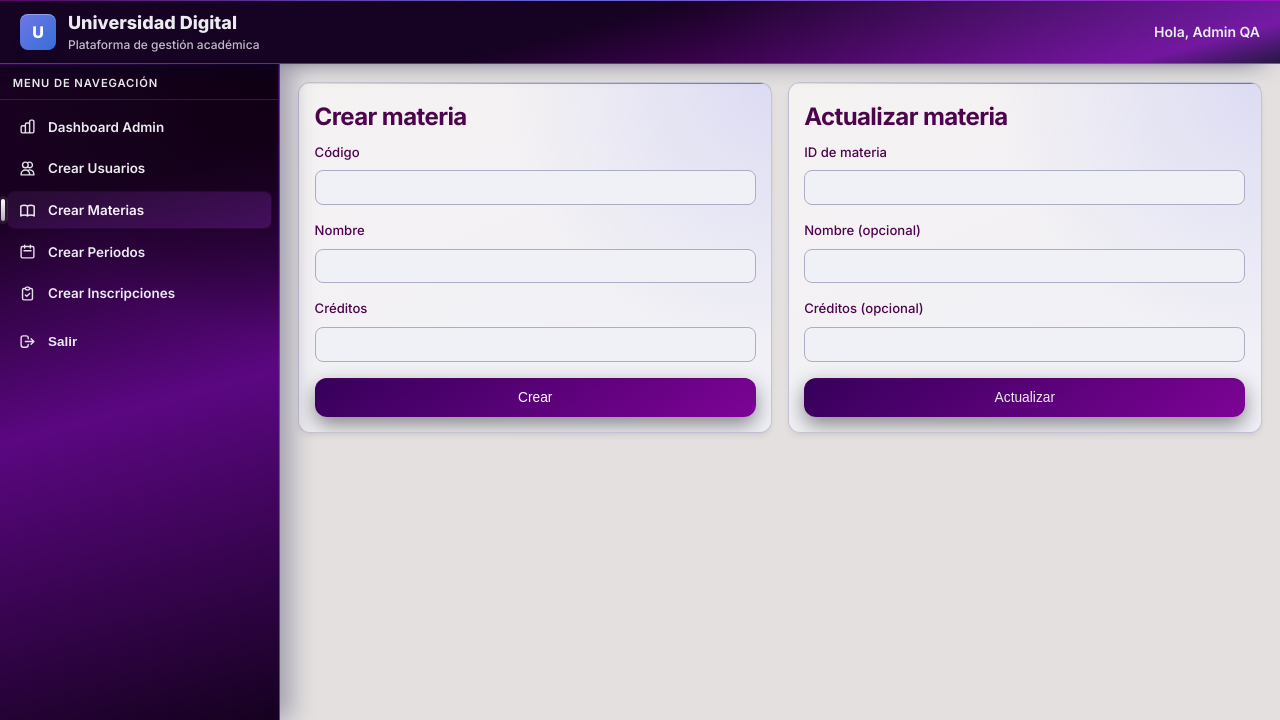
Test: Materias — Gestión básica › actualiza materia existente
In the field named "id": (1025, 188) [804, 170, 1245, 205], type "55"
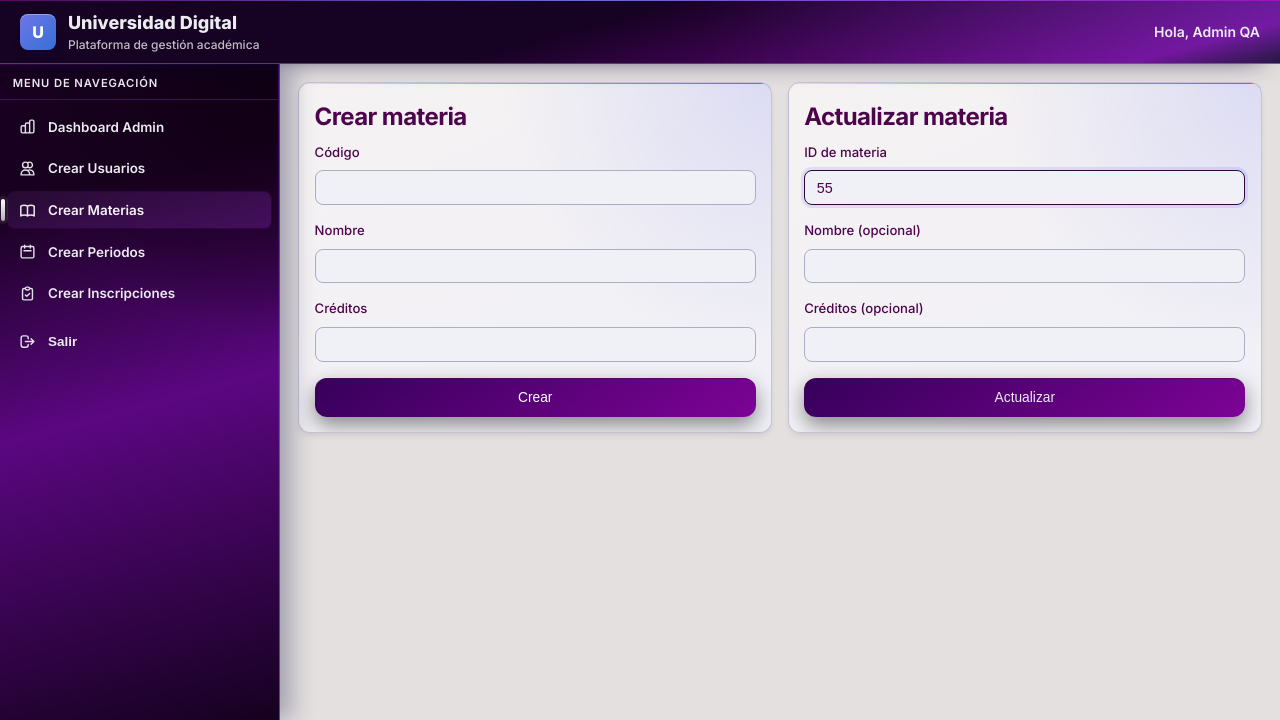
In the field named "name": (1025, 267) [804, 249, 1245, 284], type "Álgebra Avanzada"
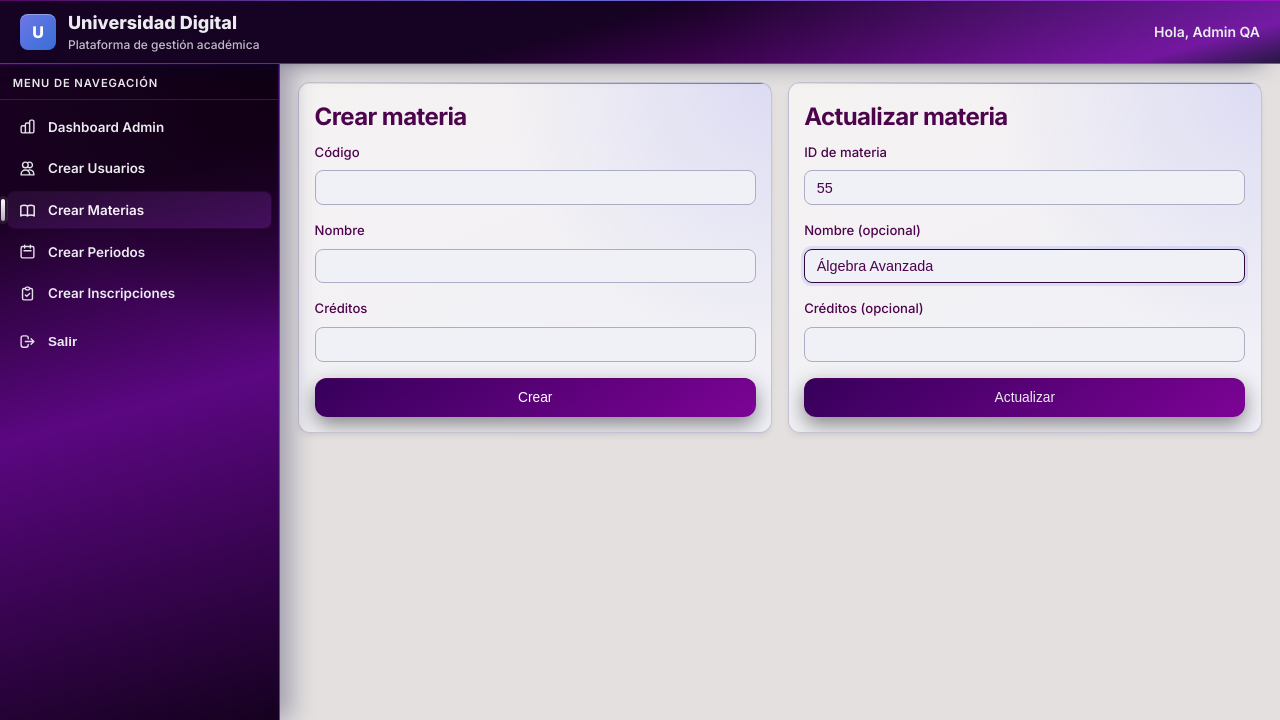
In the number field named "credits": (1025, 345) [804, 327, 1245, 362], type "5"
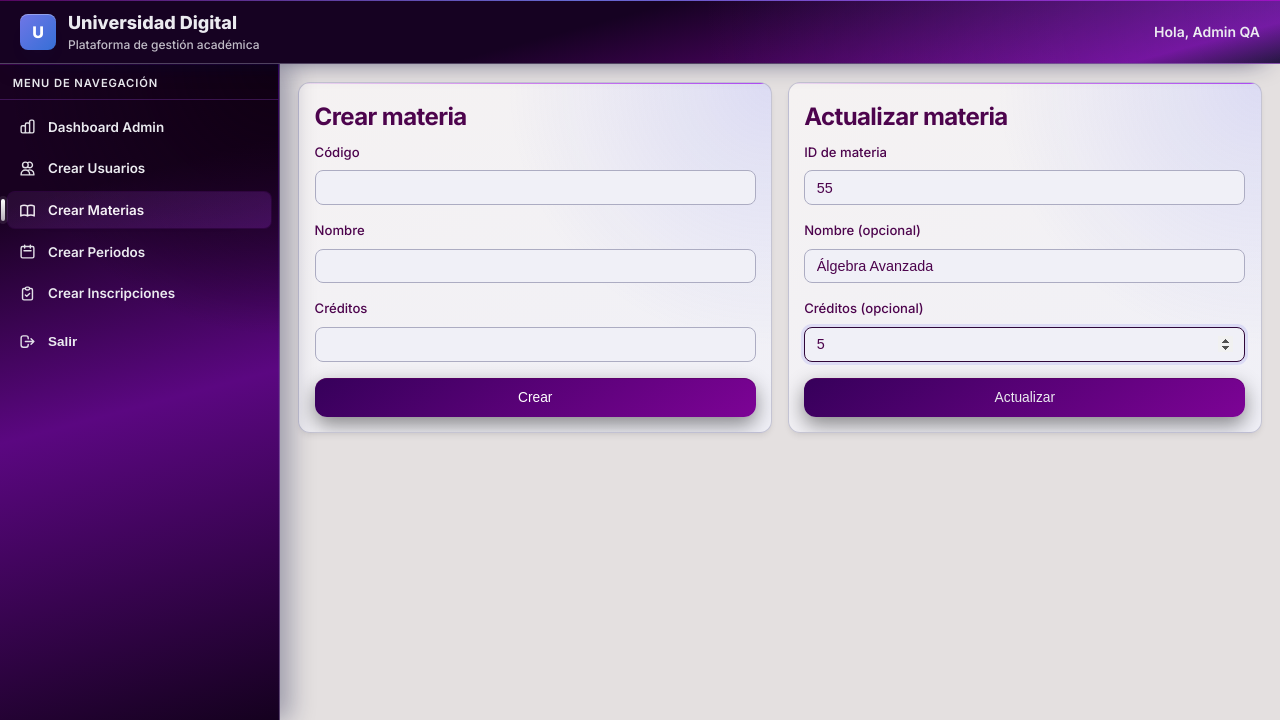
Click the button "Actualizar": (1025, 398) [804, 378, 1245, 417]
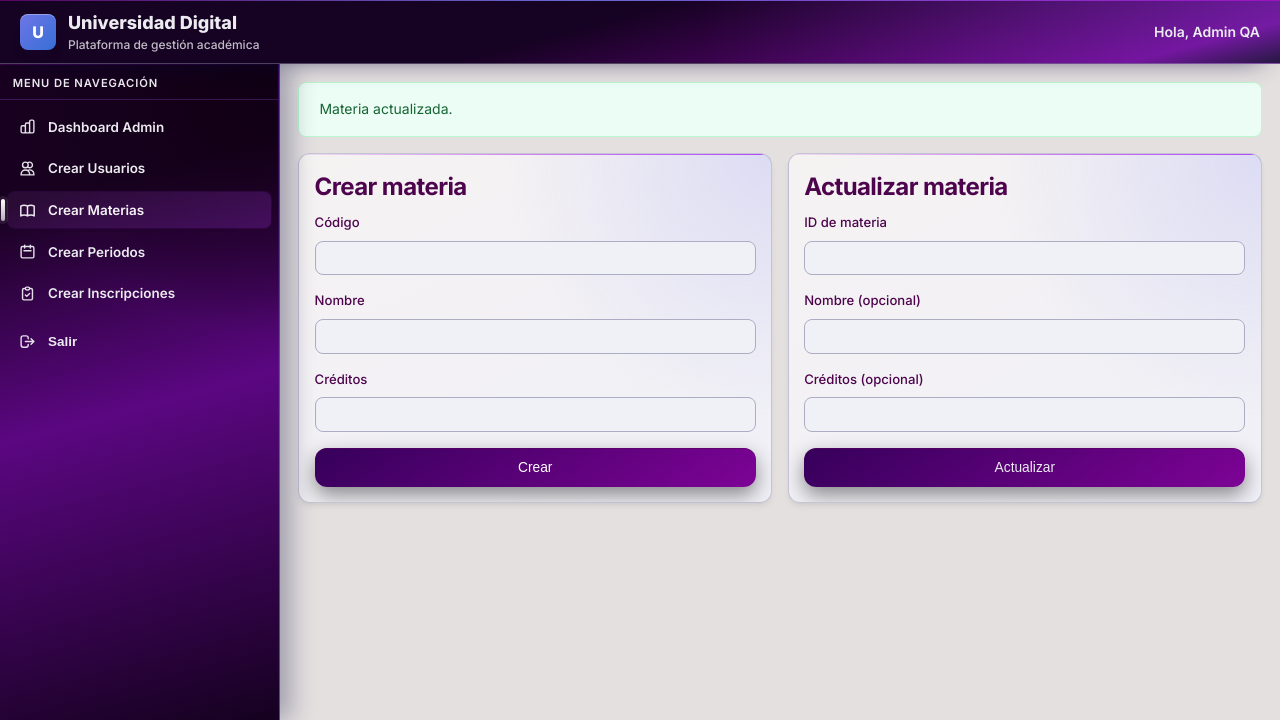
expect the text "Materia actualizada." is shown: met, box [298, 82, 1262, 137]
